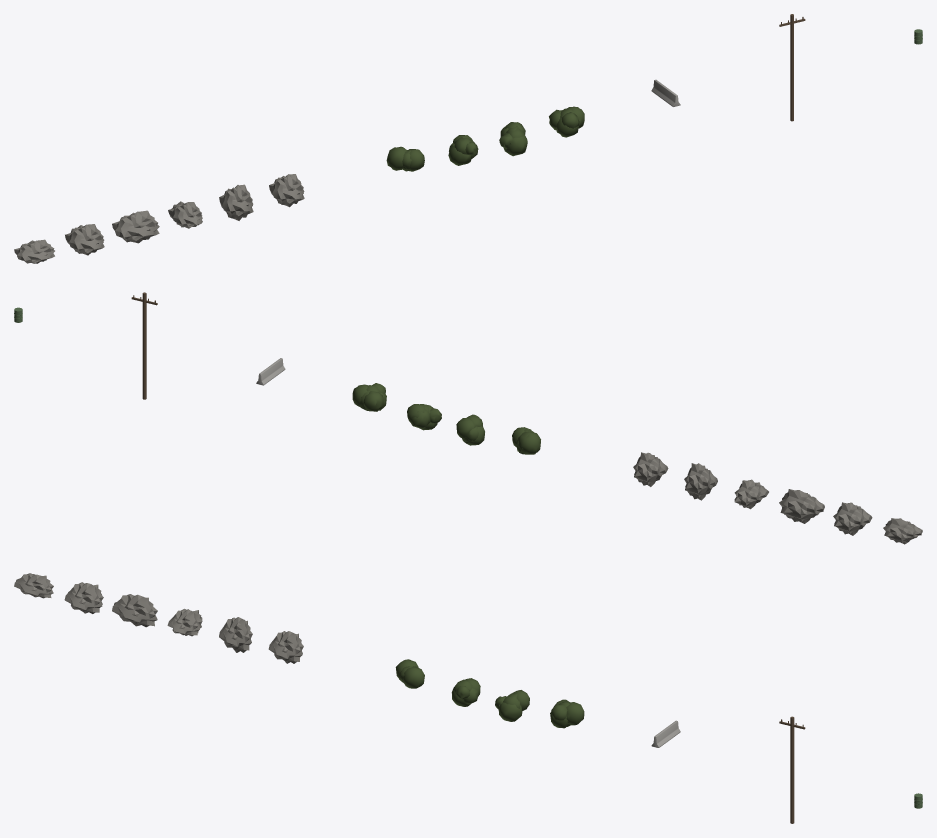
The model's file is props.glb.
3 views of the same model, one above another, from view 1: azimuth 30°, elevation 25°; view 2: azimuth 150°, elevation 25°; view 3: azimuth 330°, elevation 25° (orthographic).
Parts seen in each view (by area): view 1: Rock2, Rock1, Rock4, Rock5, Bush3, Bush0, Bush2, Rock0, Bush1, Rock3; view 2: Rock2, Rock1, Rock4, Bush3, Rock5, Bush2, Rock0, Bush1, Rock3, Bush0, Pole; view 3: Rock2, Rock1, Rock4, Rock5, Bush2, Bush3, Rock3, Rock0, Bush1, Bush0, Pole.
Boxes of the visible parts, x1=… form: Rock2: x1=112, y1=210, x2=159, y2=243; Rock1: x1=65, y1=224, x2=104, y2=255; Rock4: x1=219, y1=184, x2=253, y2=220; Rock5: x1=269, y1=174, x2=304, y2=207; Bush3: x1=549, y1=106, x2=584, y2=137; Bush0: x1=386, y1=146, x2=424, y2=171; Bush2: x1=499, y1=122, x2=527, y2=156; Rock0: x1=14, y1=239, x2=54, y2=263; Bush1: x1=448, y1=135, x2=478, y2=165; Rock3: x1=168, y1=201, x2=202, y2=228; Rock2: x1=779, y1=489, x2=824, y2=523; Rock1: x1=833, y1=502, x2=872, y2=535; Rock4: x1=684, y1=463, x2=717, y2=500; Bush3: x1=352, y1=383, x2=386, y2=411; Rock5: x1=633, y1=452, x2=668, y2=486; Bush2: x1=407, y1=404, x2=441, y2=430; Rock0: x1=883, y1=518, x2=922, y2=544; Bush1: x1=456, y1=414, x2=484, y2=445; Rock3: x1=734, y1=479, x2=768, y2=509; Bush0: x1=512, y1=427, x2=540, y2=454; Pole: x1=131, y1=292, x2=157, y2=399; Rock2: x1=112, y1=594, x2=157, y2=627; Rock1: x1=64, y1=582, x2=103, y2=613; Rock4: x1=219, y1=617, x2=252, y2=652; Rock5: x1=268, y1=631, x2=303, y2=663; Bush2: x1=495, y1=690, x2=529, y2=721; Bush3: x1=550, y1=699, x2=584, y2=728; Rock3: x1=167, y1=608, x2=202, y2=636; Rock0: x1=14, y1=573, x2=53, y2=598; Bush1: x1=451, y1=678, x2=480, y2=706; Bush0: x1=395, y1=659, x2=424, y2=688; Pole: x1=779, y1=716, x2=805, y2=823.
Bounding box in the file's own units: 71.75 × 8 × 3.05.
